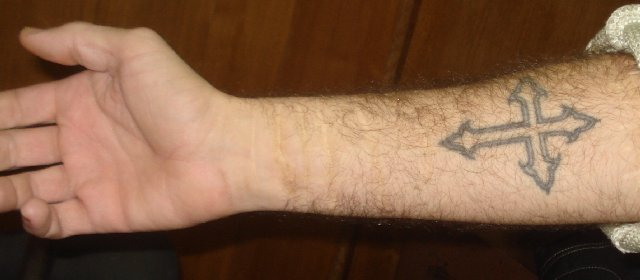tatu9_krest: (438, 91, 600, 189)
